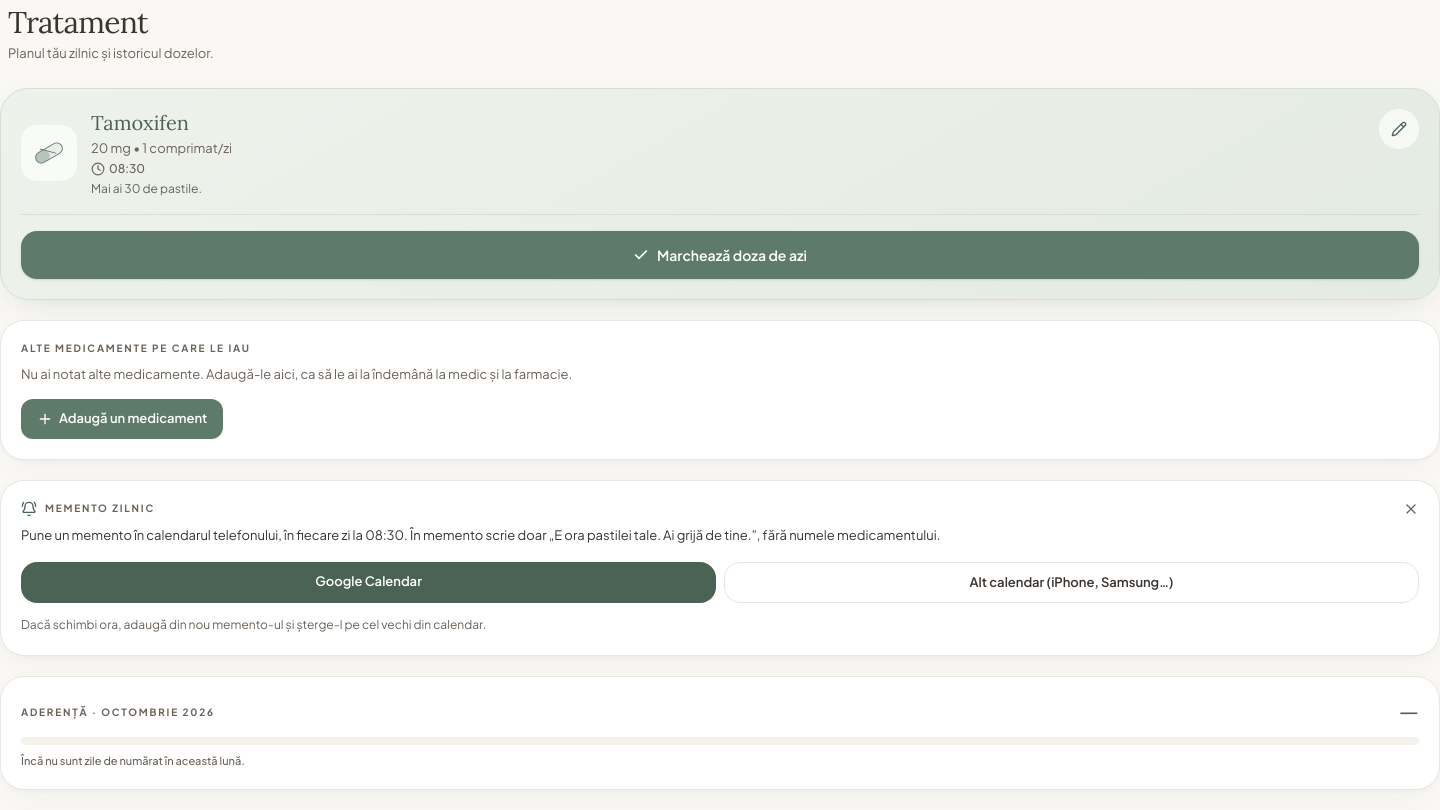
Test case: Memento în calendar › dacă fișierul nu se poate crea, cardul spune ce să facă
This screenshot has width=1440, height=810.
Step 1. Click the button "Alt calendar (iPhone, Samsung…)" → (1072, 583), box [724, 562, 1419, 603]
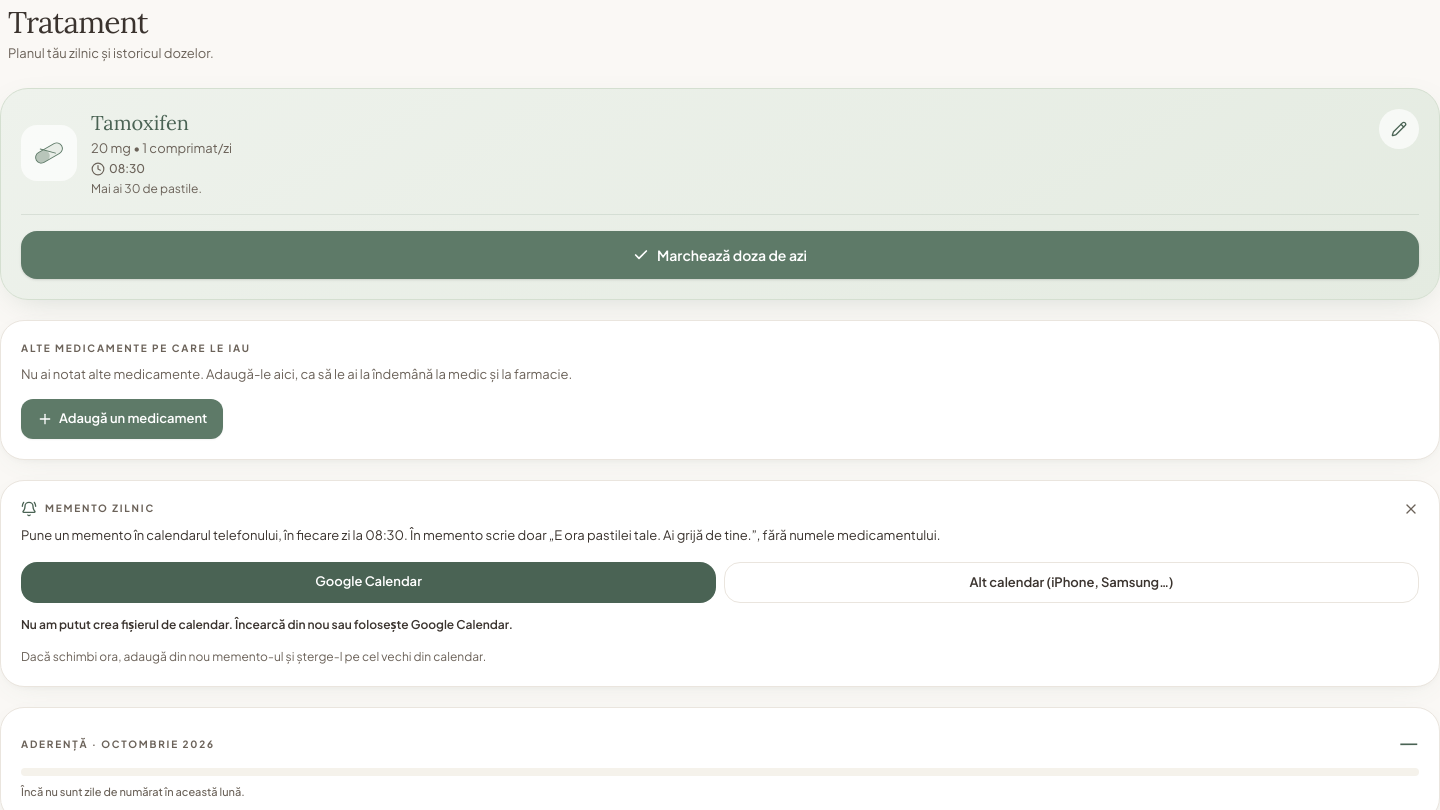
Check: the message shows "Nu am putut crea fișierul de calendar. Încearcă din nou sau folosește Google Calendar.", box [21, 617, 513, 632]
